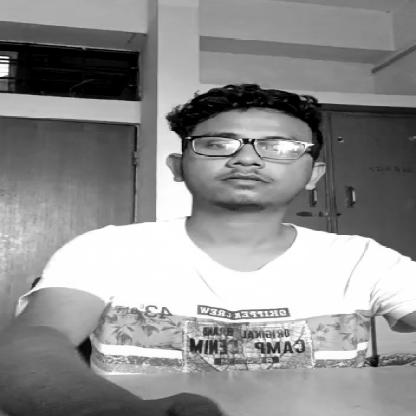Normal: (183, 115, 350, 215)
